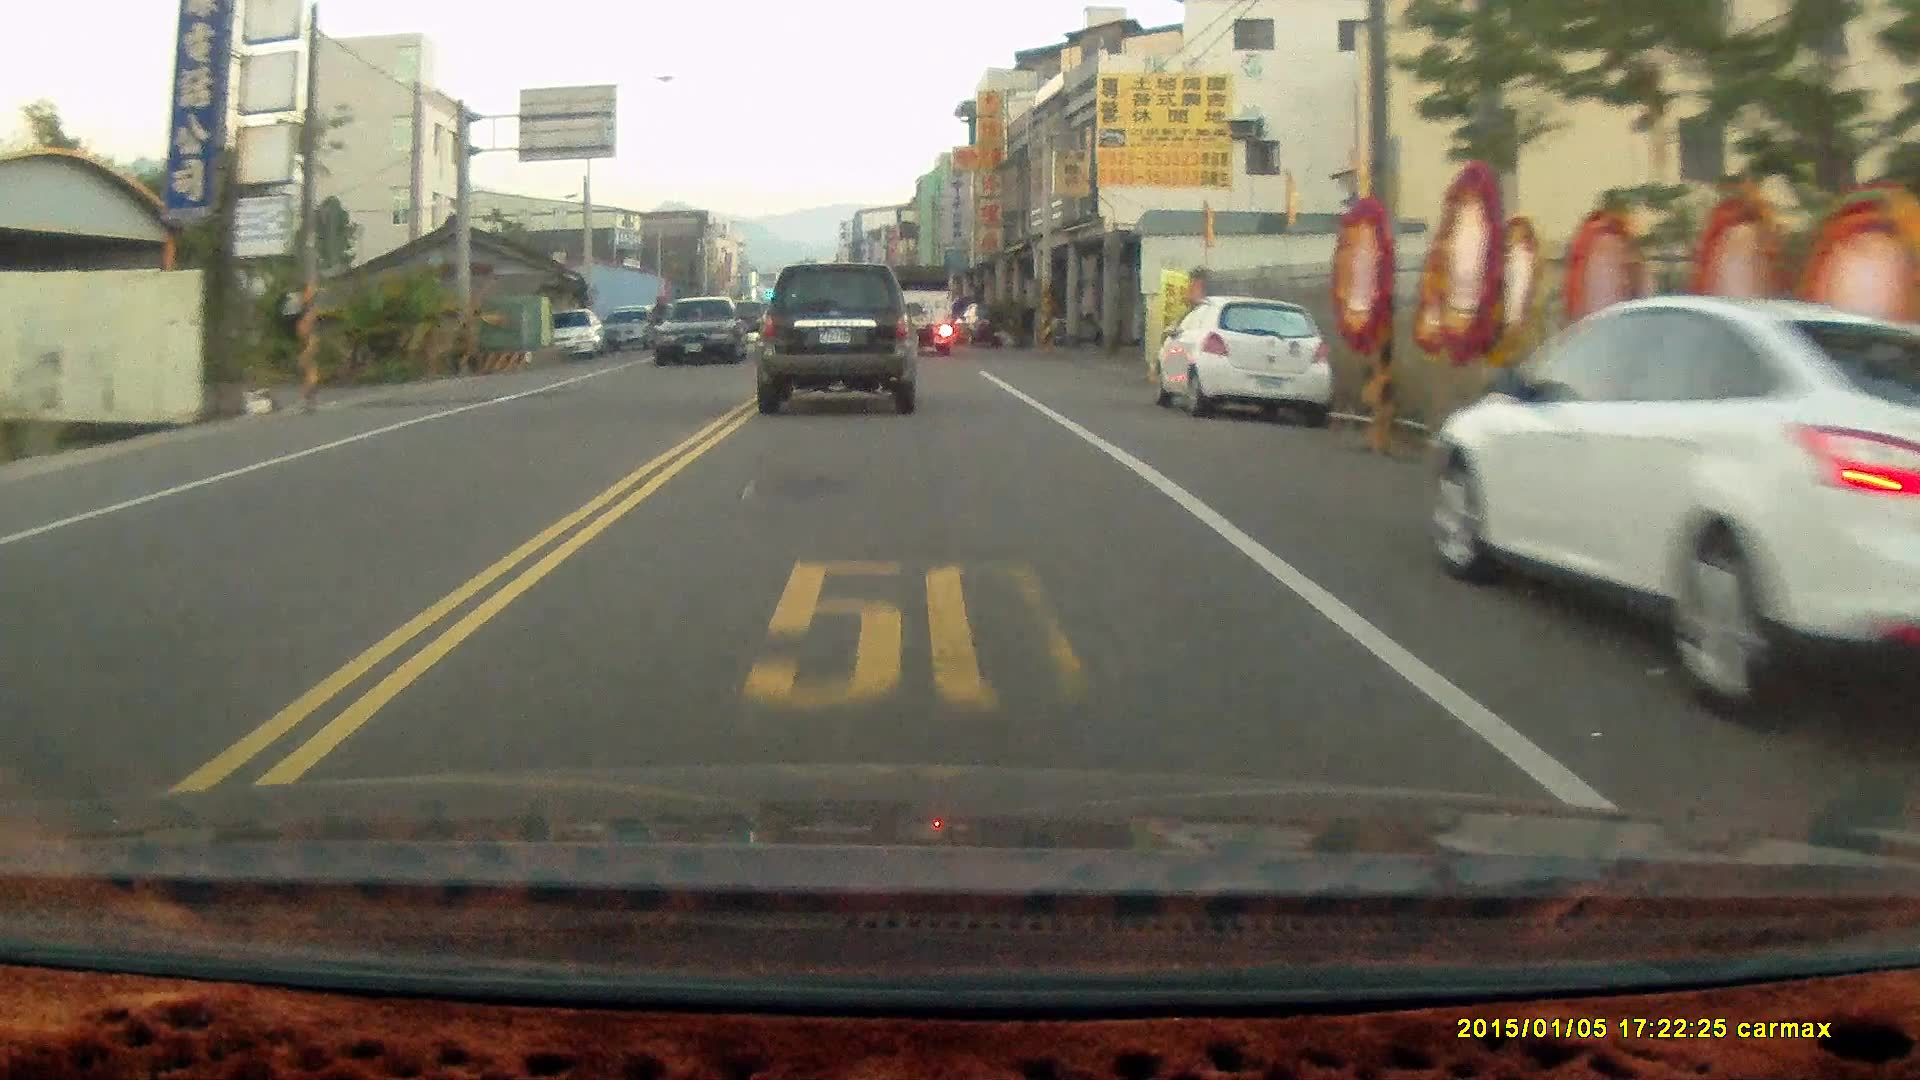vehicle: (1424, 291, 1919, 735), (752, 258, 920, 411), (1156, 295, 1331, 429), (653, 293, 752, 369), (884, 261, 959, 355), (531, 306, 608, 359)
